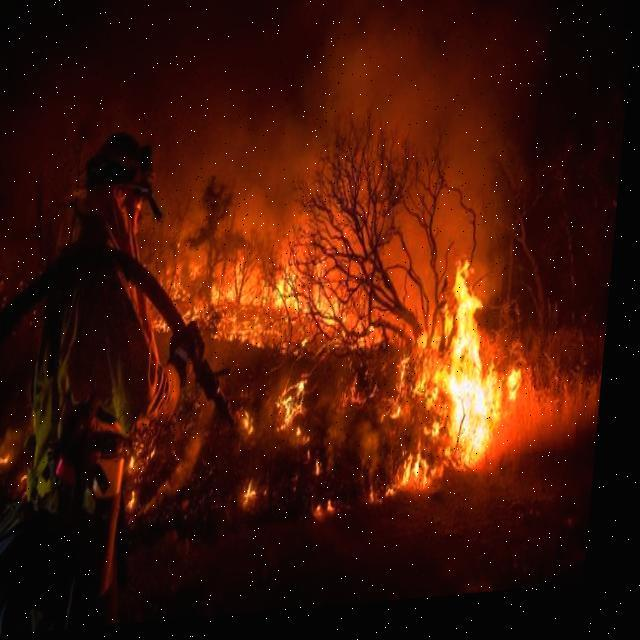Fire: (211, 229, 539, 511)
